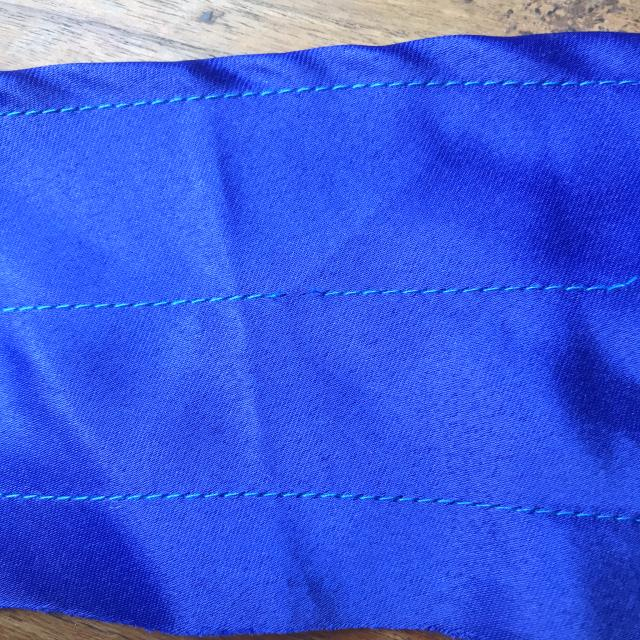broken: (242, 260, 348, 319)
good: (220, 471, 426, 522), (205, 76, 398, 108), (412, 270, 550, 310)
